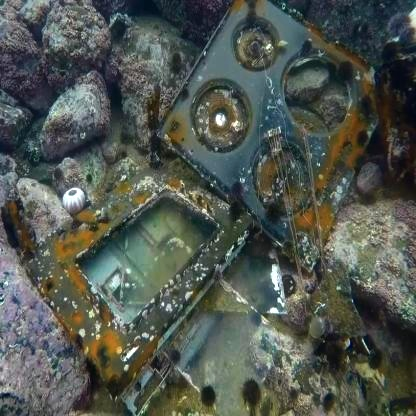electronics: (182, 28, 378, 260), (47, 167, 235, 375)
